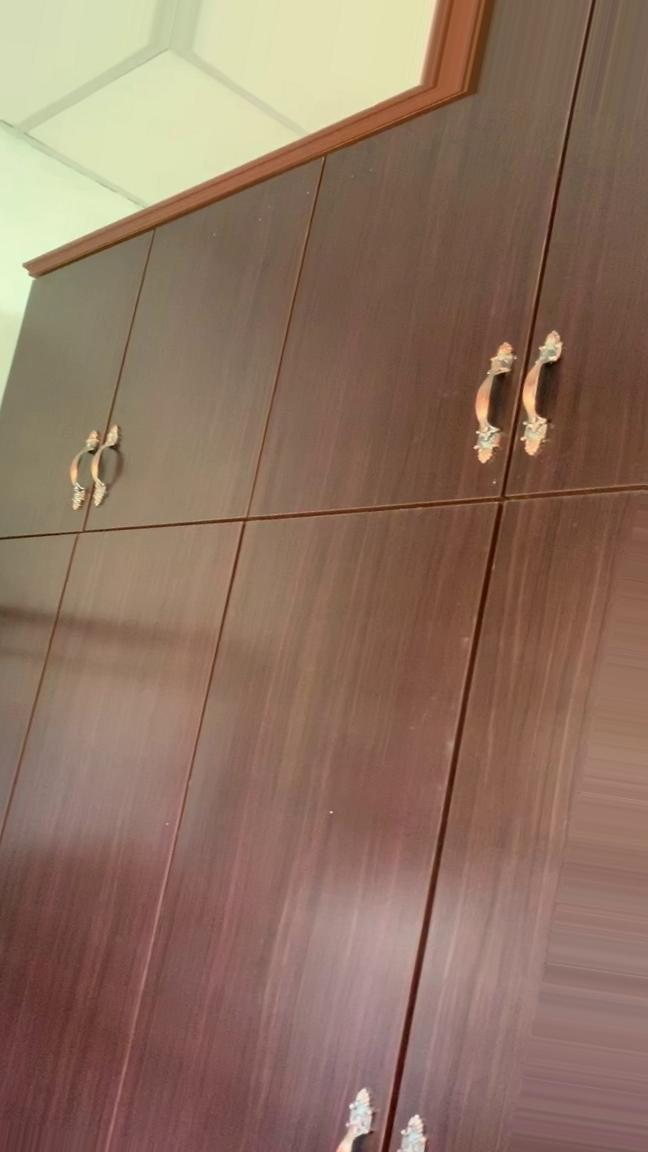Armario: (5, 49, 640, 1141)
